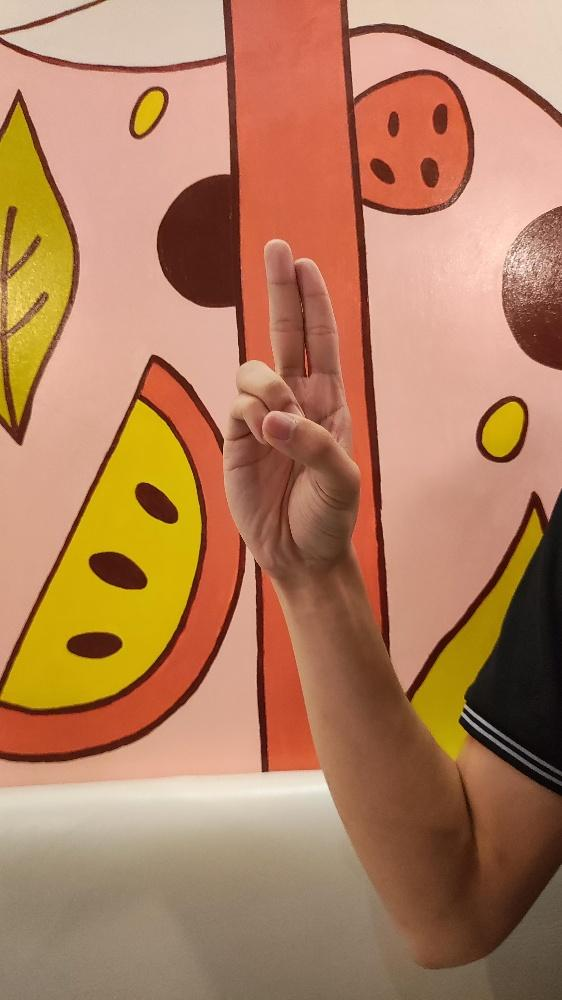u: (220, 237, 361, 584)
